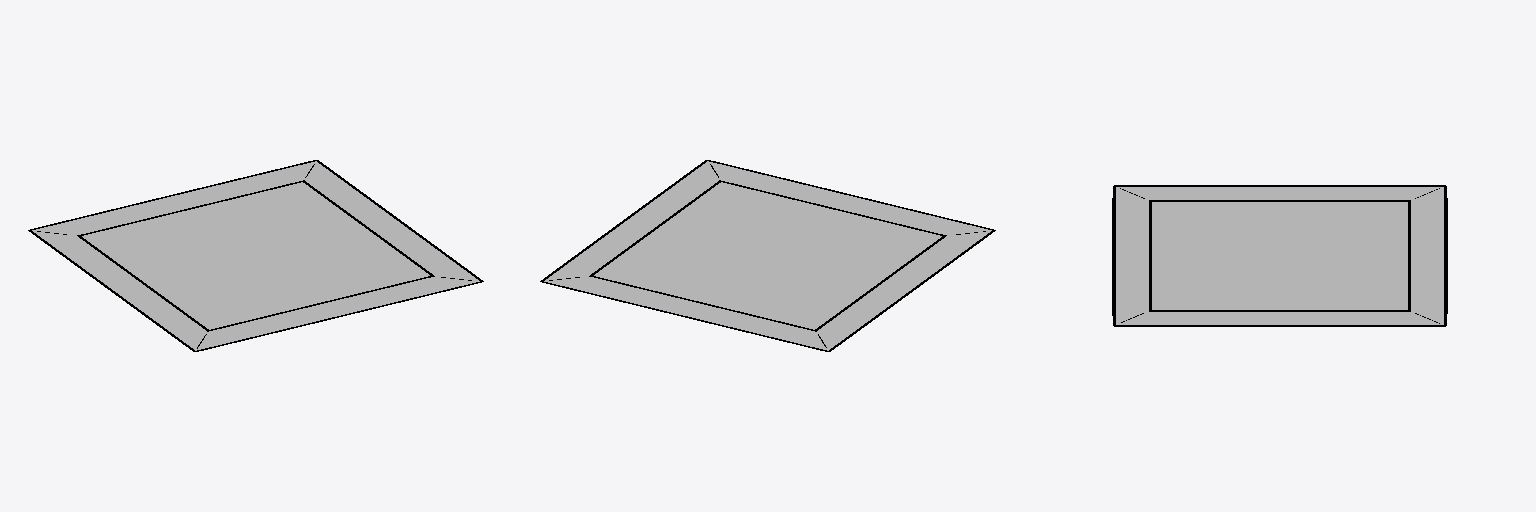
The model's file is Frame.obj.
3 renders of one model, left to right at view 1: azimuth 30°, elevation 25°; view 2: azimuth 150°, elevation 25°; view 3: azimuth 270°, elevation 25°, orthographic.
Parts seen in each view (by area): view 1: Plane_Plane.002, Frame_Mesh; view 2: Plane_Plane.002, Frame_Mesh; view 3: Plane_Plane.002, Frame_Mesh.
Part boxes in pixels (bbox=[...]): Plane_Plane.002: bbox=[32, 161, 479, 350]; Frame_Mesh: bbox=[28, 160, 483, 351]; Plane_Plane.002: bbox=[544, 161, 991, 350]; Frame_Mesh: bbox=[540, 160, 995, 351]; Plane_Plane.002: bbox=[1116, 187, 1443, 324]; Frame_Mesh: bbox=[1112, 185, 1447, 326].
Size of the model in its own units: 1.88 by 0 by 1.88.